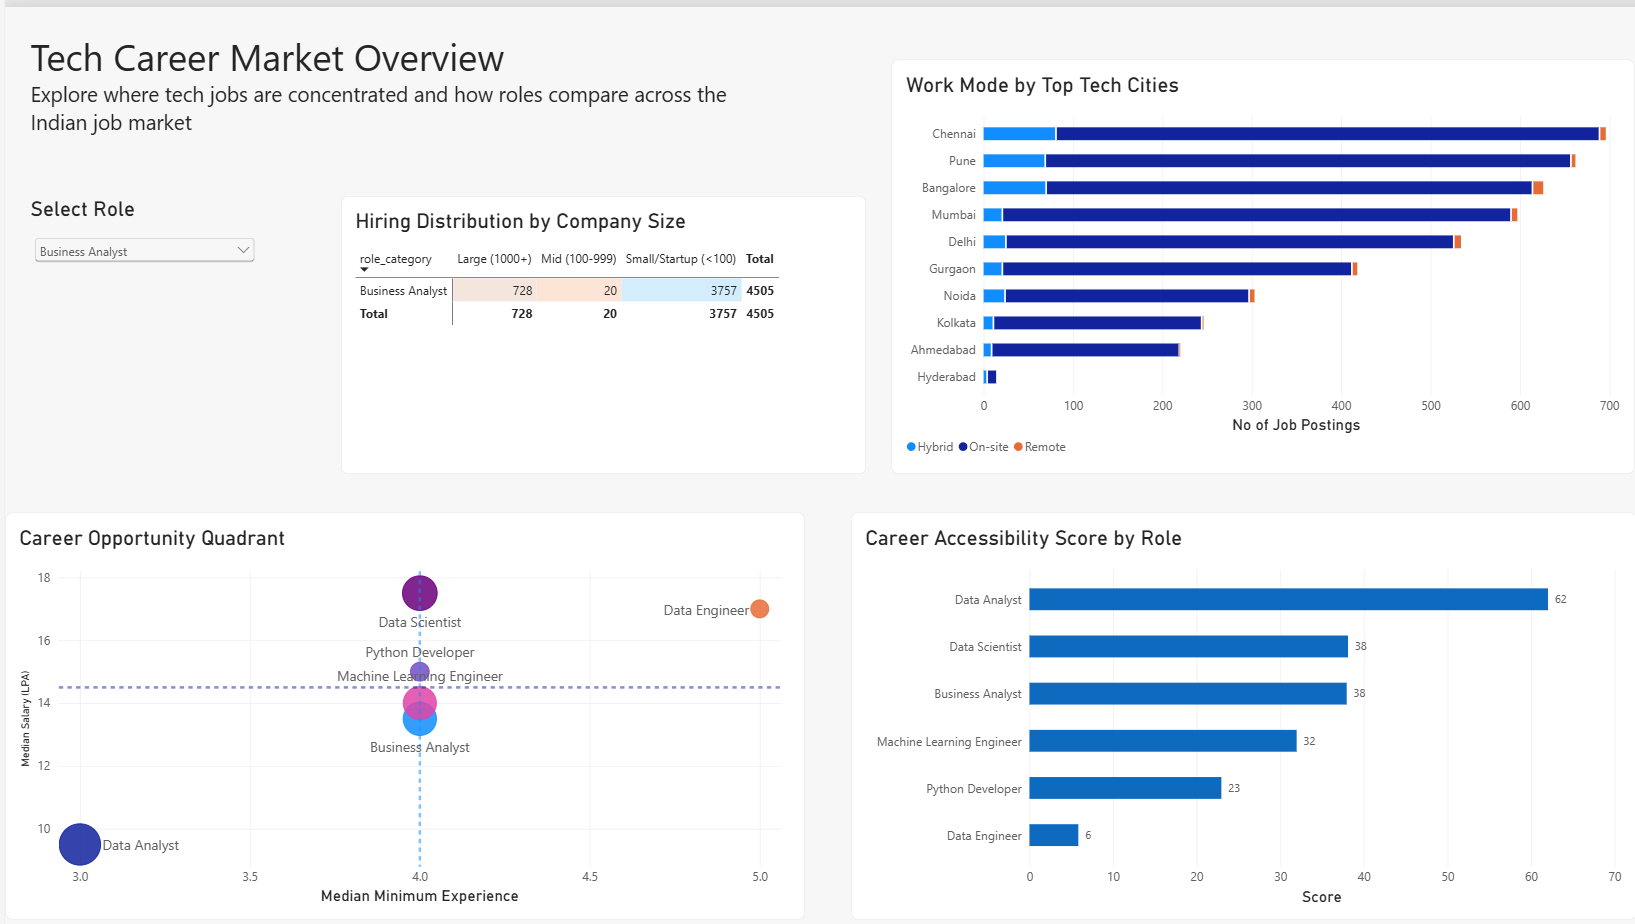

Layout of this report page (visuals, bound fields, positions):
{"tool":"powerbi","page":{"name":"Career Accessibility","canvas":[1920,1080],"ordinal":0},"visuals":[{"type":"clusteredBarChart","title":"Career Accessibility Score by Role","fields":{"Category":["indian_tech_jobs_2026.role_category"],"Y":["Job Skills Cleaned.Career Accessibility Score"]},"box":[979.3,585.4,909.7,471.5],"z":0},{"type":"scatterChart","title":"Career Opportunity Quadrant","fields":{"Category":["indian_tech_jobs_2026.role_category"],"Size":["indian_tech_jobs_2026.Fresher Openings"],"X":["indian_tech_jobs_2026.Median Minimum Experience"],"Y":["indian_tech_jobs_2026.Median Salary (LPA)"]},"box":[0,584.8,925.8,471.1],"z":1000},{"type":"barChart","title":"Work Mode by Top Tech Cities","fields":{"Category":["indian_tech_jobs_2026.scraped_city"],"Series":["indian_tech_jobs_2026.work_mode"],"Y":["CountNonNull(indian_tech_jobs_2026.job_id)"]},"box":[1027.1,59.9,860.7,479.7],"z":2000},{"type":"pivotTable","title":"Hiring Distribution by Company Size","fields":{"Columns":["indian_tech_jobs_2026.company_size_bucket"],"Rows":["indian_tech_jobs_2026.role_category"],"Values":["CountNonNull(indian_tech_jobs_2026.job_id)"]},"box":[389.6,218.1,608,321.8],"z":3000},{"type":"slicer","title":"Select Role","fields":{"Values":["indian_tech_jobs_2026.role_category"]},"box":[30,218.1,264.5,339.5],"z":4000},{"type":"textbox","box":[30,28.3,852.4,131.5],"z":4001}]}

Visuals, with their boxes in screenshot pixels (x1, y1, x2, y2), scaled from the page's 1920x1080 canvas onto the 1635x924 screenshot:
"Career Accessibility Score by Role" clusteredBarChart: select_region(834, 501, 1609, 904)
"Career Opportunity Quadrant" scatterChart: select_region(0, 500, 788, 903)
"Work Mode by Top Tech Cities" barChart: select_region(875, 51, 1608, 462)
"Hiring Distribution by Company Size" pivotTable: select_region(332, 187, 850, 462)
"Select Role" slicer: select_region(26, 187, 251, 477)
textbox: select_region(26, 24, 751, 137)
